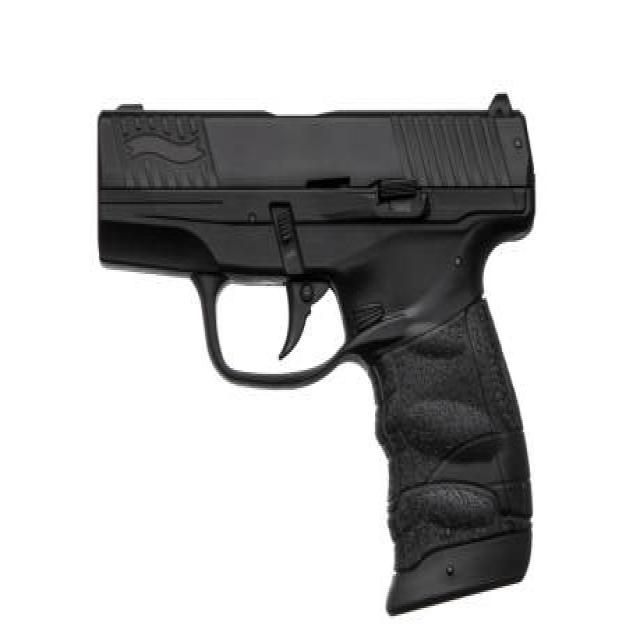pistol: (87, 84, 554, 627)
